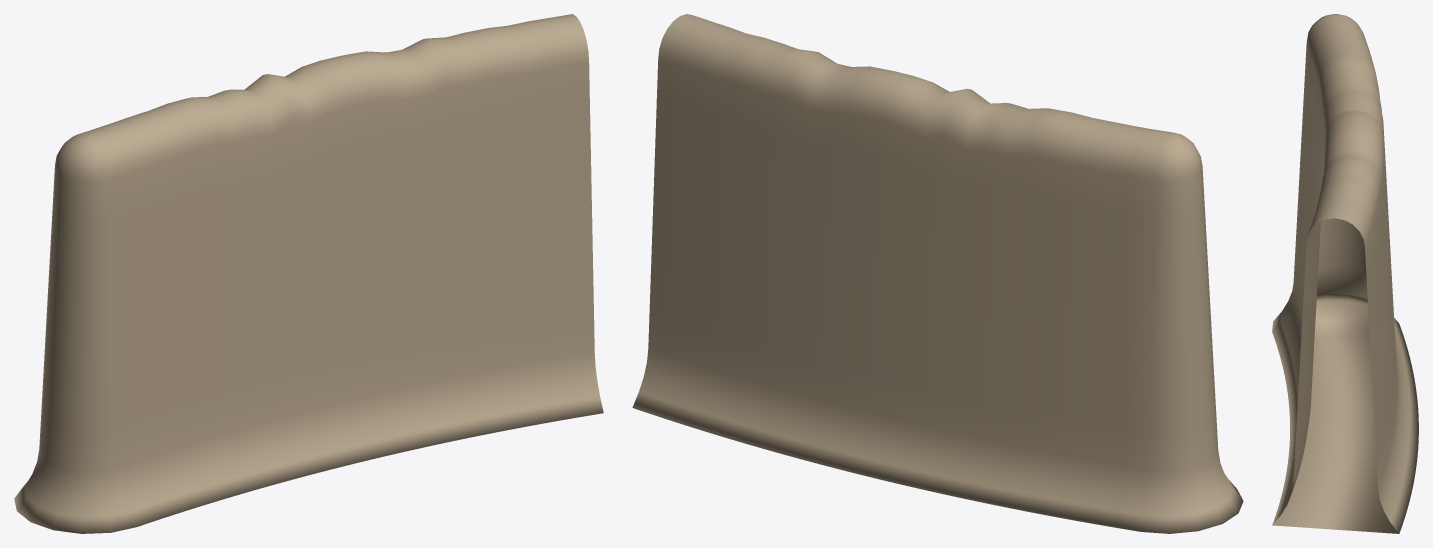
Rendered from KFB_Wall_curved_ring_r4_capB.r1.glb.
The picture shows the model from 3 angles, left to right: view 1: azimuth 30°, elevation 25°; view 2: azimuth 150°, elevation 25°; view 3: azimuth 270°, elevation 25°; orthographic projection. The views are drawn at different scales.
Visible parts, largest first — view 1: KFB_Wall_curved_ring_r4_capB; view 2: KFB_Wall_curved_ring_r4_capB; view 3: KFB_Wall_curved_ring_r4_capB.
Part boxes in pixels (box(x1,y1,x2,y2)): KFB_Wall_curved_ring_r4_capB: box(14, 14, 603, 533); KFB_Wall_curved_ring_r4_capB: box(632, 14, 1243, 533); KFB_Wall_curved_ring_r4_capB: box(1272, 14, 1418, 533).
Size of the model in its own units: 5.78 by 3.64 by 1.54.
